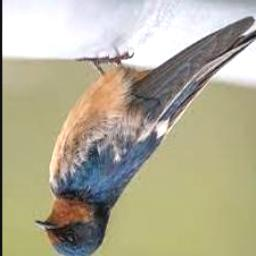Swallow: (36, 16, 256, 256)
